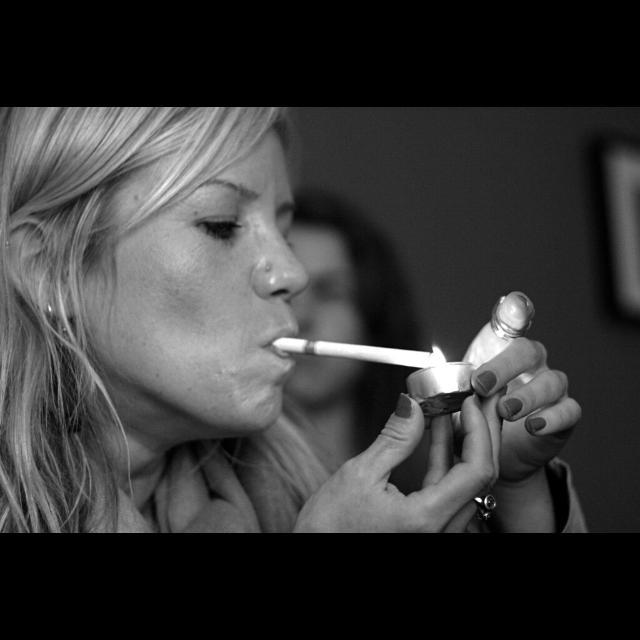rokok: (273, 332, 445, 378)
